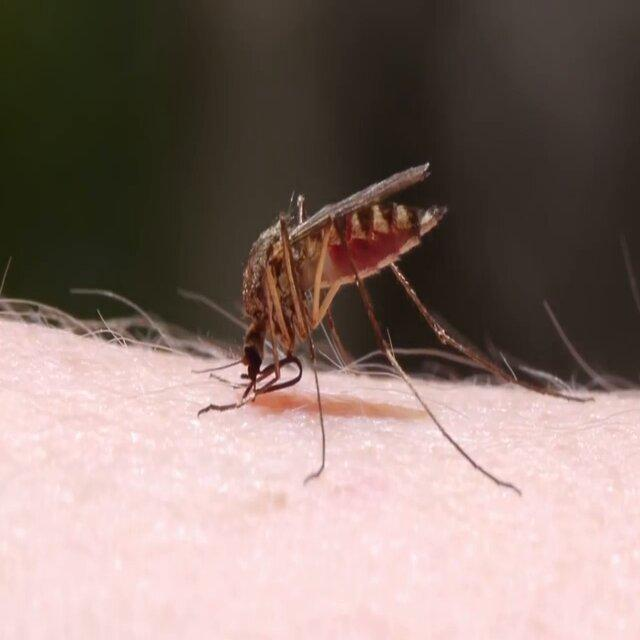mosquitos: (242, 164, 444, 381)
